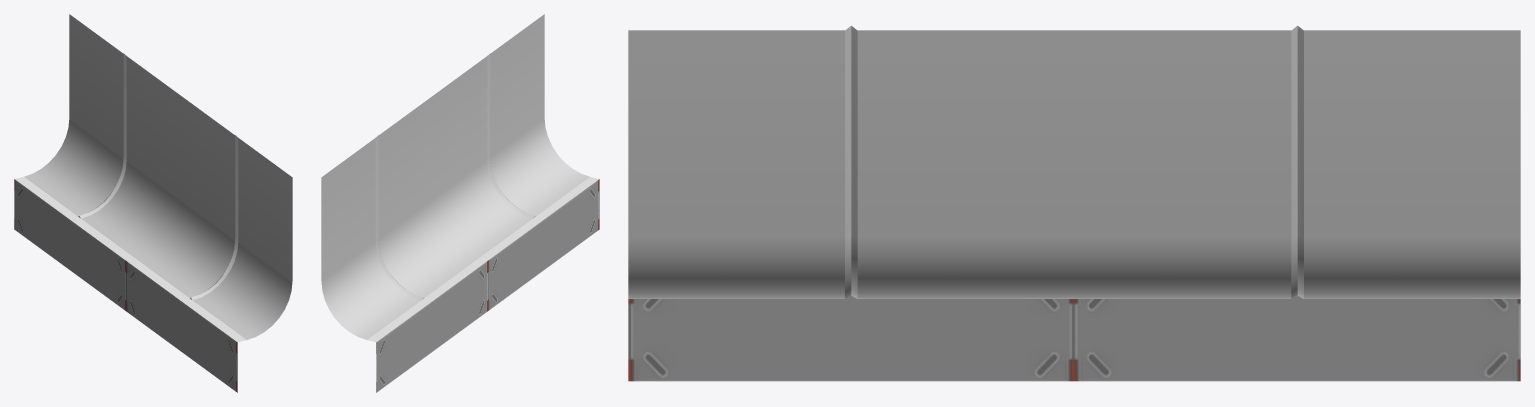
File: town-top-DYCvNaup.glb
3 views of the same model, side by side, from view 1: azimuth 30°, elevation 25°; view 2: azimuth 150°, elevation 25°; view 3: azimuth 270°, elevation 25° (orthographic). The views are drawn at different scales.
Parts seen in each view (by area): view 1: TopPlastic_Straight; view 2: TopPlastic_Straight; view 3: TopPlastic_Straight.
Part boxes in pixels (box(x1,y1,x2,y2)): TopPlastic_Straight: box(14, 14, 292, 392); TopPlastic_Straight: box(321, 14, 599, 392); TopPlastic_Straight: box(628, 25, 1520, 381).
Size of the model in its own units: 0.5679 by 2.02 by 4.
3 materials, 2 textured.
